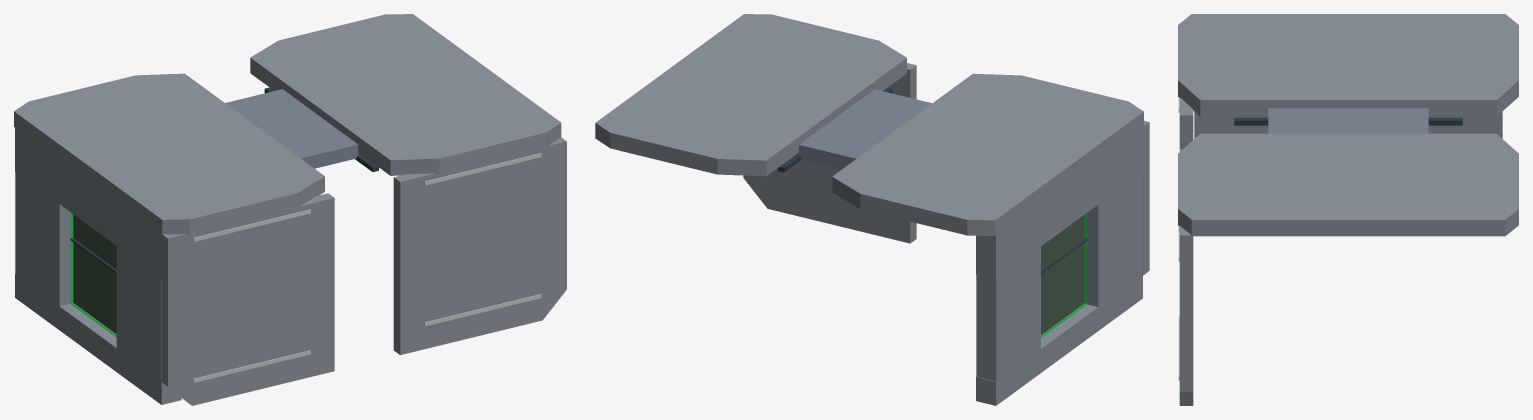
Rendered from carrier-escape-shuttle.glb.
3 renders of one model, left to right at view 1: azimuth 30°, elevation 25°; view 2: azimuth 150°, elevation 25°; view 3: azimuth 270°, elevation 25°, orthographic. The views are drawn at different scales.
Parts seen in each view (by area): view 1: Ribbed shell tray (×2), Upright back blade (×2), Outer lower sill, Forward side cheek, Connecting saddle, Rear side cheek, Outer upper rail, Olive recessed side inset, Back blade strip (×4); view 2: Ribbed shell tray (×2), Upright back blade (×2), Outer lower sill, Forward side cheek, Rear side cheek, Connecting saddle, Outer upper rail, Olive recessed side inset; view 3: Ribbed shell tray (×2), Connecting saddle, Upright back blade (×2), Rear side cheek, Forward side cheek, Center slot ledge.
Boxes of the visible parts, x1=… form: Ribbed shell tray (×2): x1=14, y1=14, x2=561, y2=234; Upright back blade (×2): x1=161, y1=137, x2=566, y2=405; Outer lower sill: x1=15, y1=128, x2=161, y2=278; Forward side cheek: x1=15, y1=172, x2=73, y2=306; Connecting saddle: x1=225, y1=89, x2=358, y2=168; Rear side cheek: x1=116, y1=246, x2=161, y2=380; Outer upper rail: x1=15, y1=274, x2=181, y2=404; Olive recessed side inset: x1=73, y1=214, x2=116, y2=333; Back blade strip (×4): x1=193, y1=153, x2=541, y2=382; Ribbed shell tray (×2): x1=595, y1=14, x2=1143, y2=235; Upright back blade (×2): x1=743, y1=63, x2=1149, y2=275; Outer lower sill: x1=976, y1=128, x2=1142, y2=279; Forward side cheek: x1=976, y1=247, x2=1040, y2=381; Rear side cheek: x1=1087, y1=172, x2=1142, y2=306; Connecting saddle: x1=799, y1=89, x2=931, y2=168; Outer upper rail: x1=976, y1=274, x2=1142, y2=405; Olive recessed side inset: x1=1041, y1=215, x2=1084, y2=334; Ribbed shell tray (×2): x1=1178, y1=14, x2=1518, y2=236; Connecting saddle: x1=1268, y1=108, x2=1428, y2=133; Upright back blade (×2): x1=1179, y1=97, x2=1193, y2=405; Rear side cheek: x1=1194, y1=111, x2=1268, y2=138; Forward side cheek: x1=1428, y1=111, x2=1502, y2=138; Center slot ledge: x1=1234, y1=117, x2=1462, y2=125.
Size of the model in its own units: 20 by 9 by 14.
